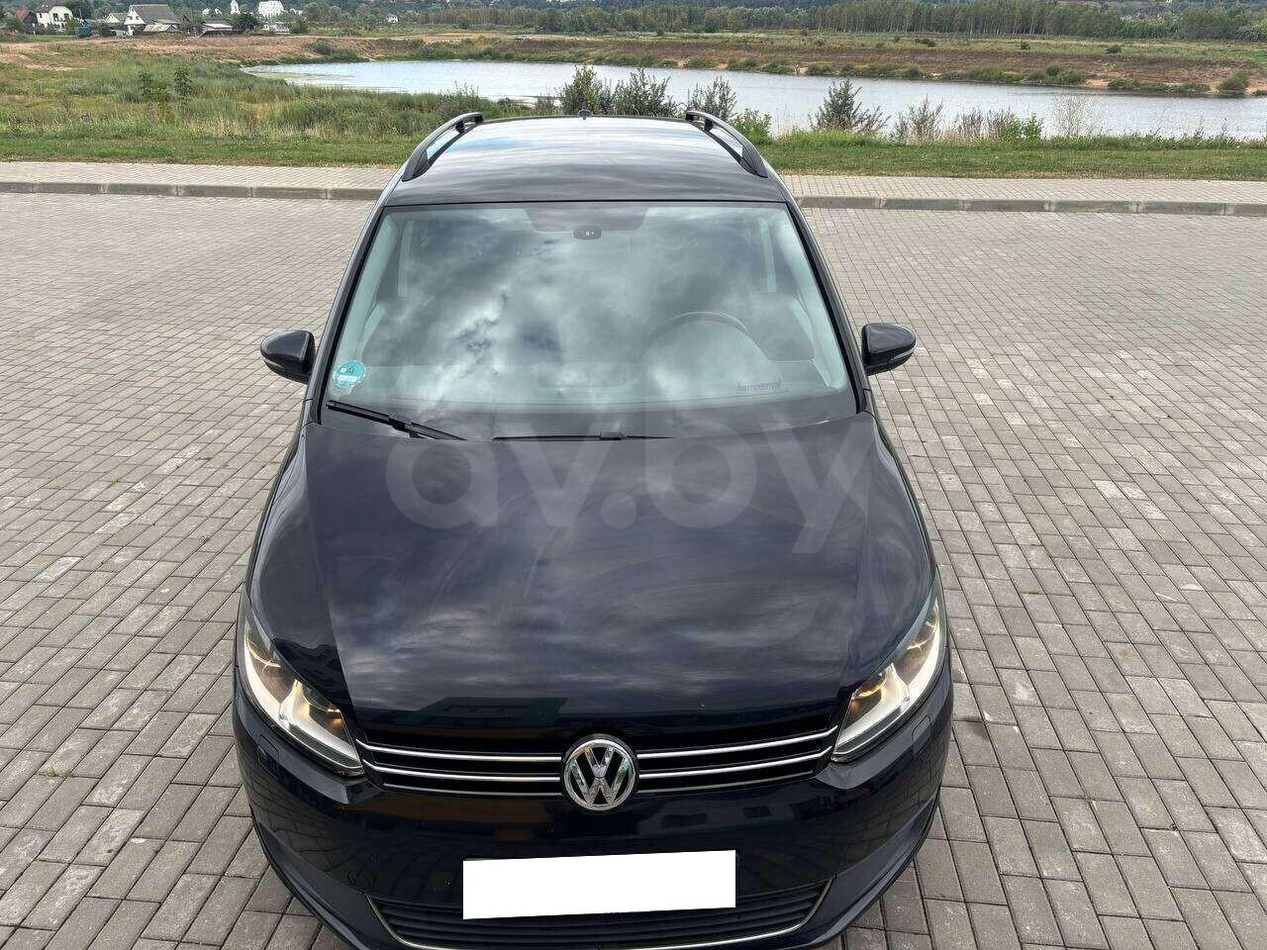Touran_2010-2015: (216, 110, 960, 950)
